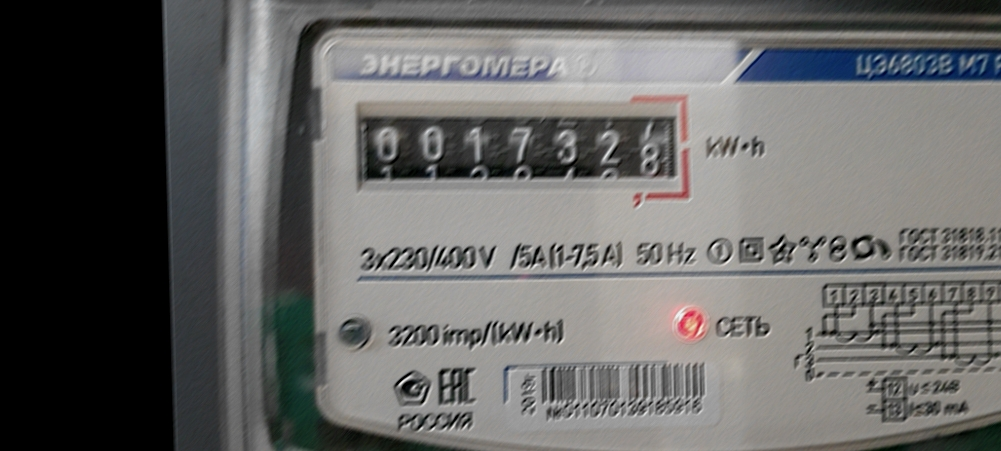0: (374, 124, 400, 164), (421, 124, 445, 162)
1: (466, 124, 485, 164)
2: (598, 129, 621, 166)
3: (556, 128, 579, 165)
7: (511, 125, 534, 164)
8: (639, 140, 659, 176)
screen: (345, 91, 701, 216)
